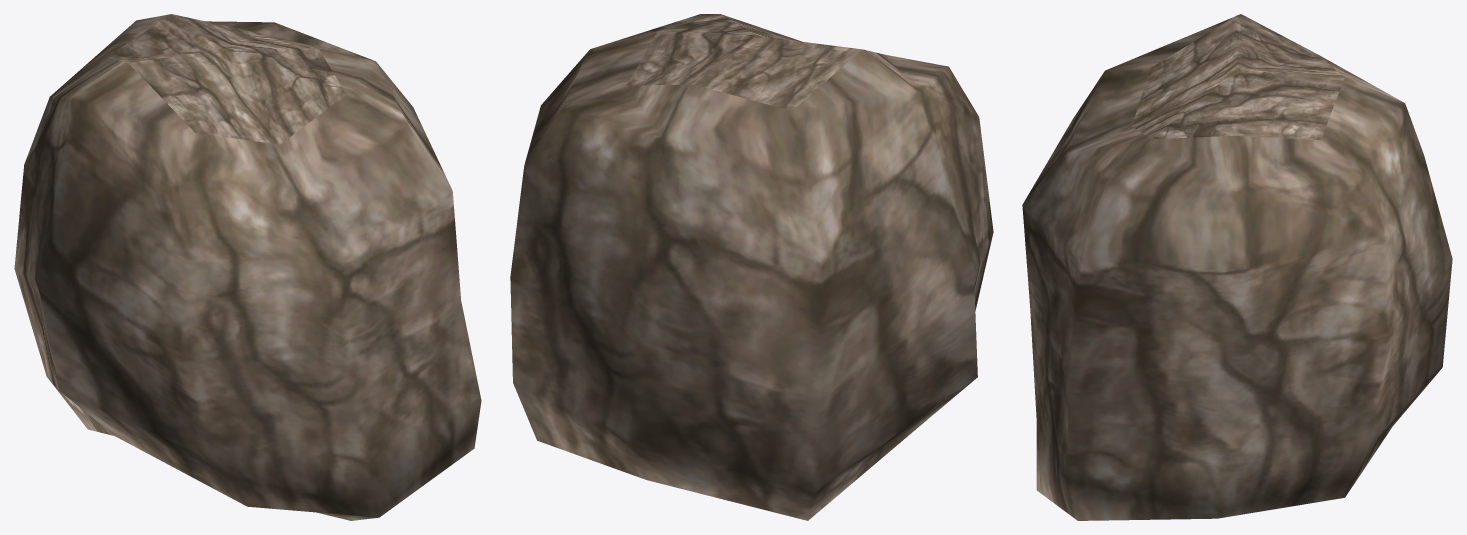
File: INST_EKH_ROCKB.obj
3 renders of one model, left to right at view 1: azimuth 30°, elevation 25°; view 2: azimuth 150°, elevation 25°; view 3: azimuth 270°, elevation 25°, orthographic. The views are drawn at different scales.
Visible parts, largest first — view 1: Inst_EKH_Rock; view 2: Inst_EKH_Rock; view 3: Inst_EKH_Rock.
Part boxes in pixels (<box>): Inst_EKH_Rock: <box>14,14,481,520</box>; Inst_EKH_Rock: <box>510,14,993,520</box>; Inst_EKH_Rock: <box>1022,14,1452,520</box>.
Bounding box in the file's own units: 205 × 223 × 204.
